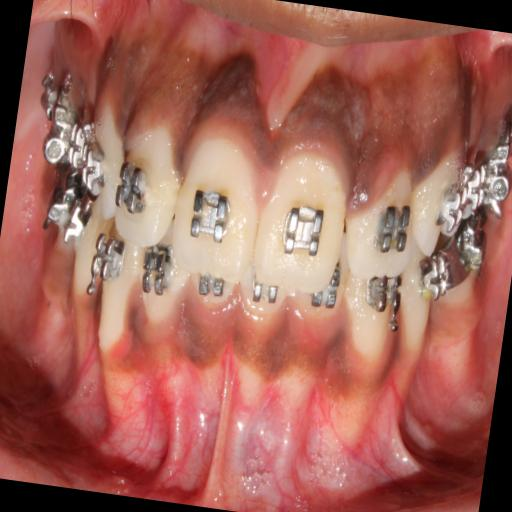correct_brace: (186, 182, 237, 247), (280, 194, 328, 262), (112, 154, 156, 224), (370, 199, 416, 264)
incorrect_brace: (342, 158, 428, 288), (108, 119, 184, 253)
